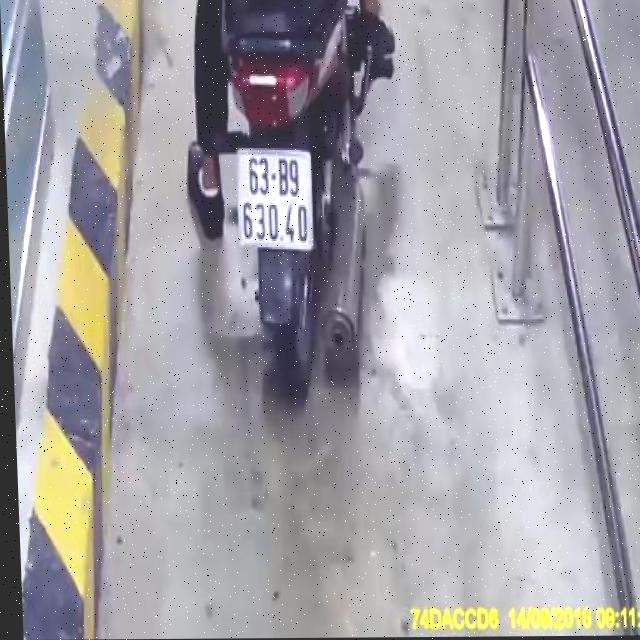motorcycle: (202, 0, 392, 397)
plate: (227, 142, 320, 253)
